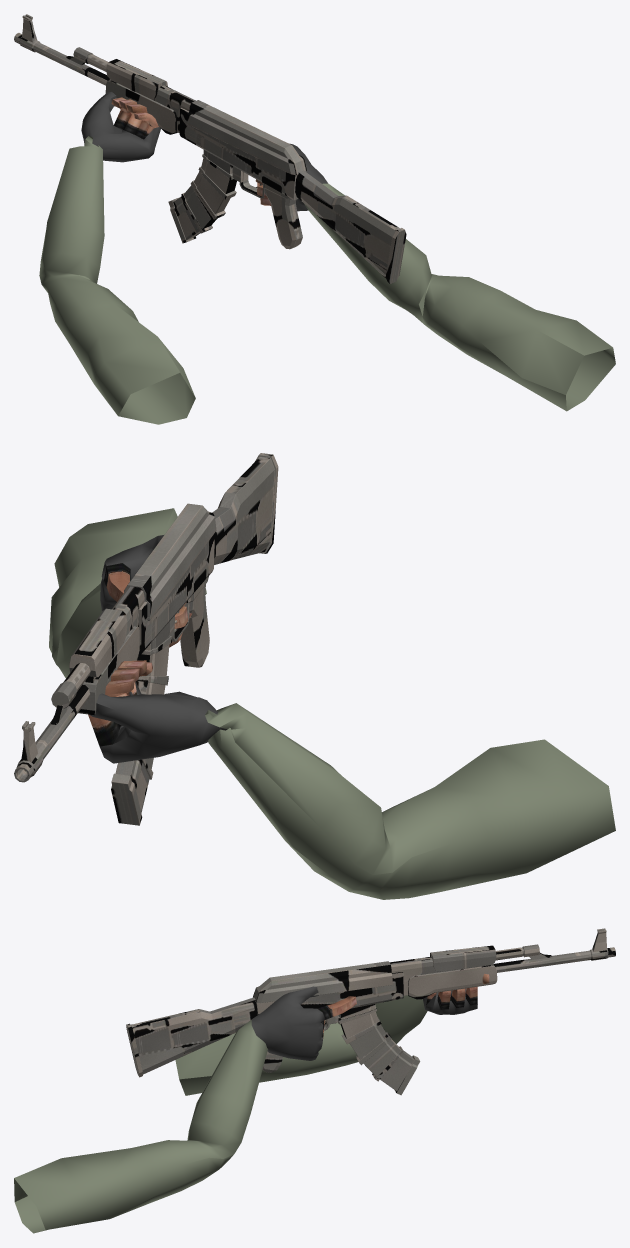
Rendered from gun_ak.glb.
3 renders of one model, top to bottom at view 1: azimuth 30°, elevation 25°; view 2: azimuth 150°, elevation 25°; view 3: azimuth 270°, elevation 25°, orthographic. The views are drawn at different scales.
Parts seen in each view (by area): view 1: body_sleeve, body_QUATP, body_QUAT, mag_QUATP, body_glove, body_ARMS; view 2: body_sleeve, body_QUATP, body_QUAT, body_glove, mag_QUATP, body_ARMS; view 3: body_sleeve, body_QUATP, body_QUAT, body_glove, mag_QUATP, body_ARMS.
Boxes of the visible parts, x1=… form: body_sleeve: x1=39, y1=136, x2=615, y2=424; body_QUATP: x1=14, y1=15, x2=406, y2=283; body_QUAT: x1=14, y1=14, x2=306, y2=200; mag_QUATP: x1=168, y1=150, x2=236, y2=243; body_glove: x1=81, y1=92, x2=327, y2=211; body_ARMS: x1=111, y1=97, x2=270, y2=205; body_sleeve: x1=49, y1=508, x2=615, y2=899; body_QUATP: x1=14, y1=453, x2=278, y2=782; body_QUAT: x1=14, y1=503, x2=216, y2=782; body_glove: x1=90, y1=535, x2=227, y2=763; mag_QUATP: x1=111, y1=621, x2=171, y2=825; body_ARMS: x1=88, y1=563, x2=191, y2=746; body_sleeve: x1=14, y1=995, x2=427, y2=1233; body_QUATP: x1=126, y1=929, x2=615, y2=1077; body_QUAT: x1=253, y1=928, x2=615, y2=1030; body_glove: x1=251, y1=986, x2=477, y2=1060; mag_QUATP: x1=338, y1=1004, x2=420, y2=1095; body_ARMS: x1=317, y1=973, x2=489, y2=1043.
Size of the model in its own units: 77.42 by 38.5 by 106.
5 materials, 3 textured.
